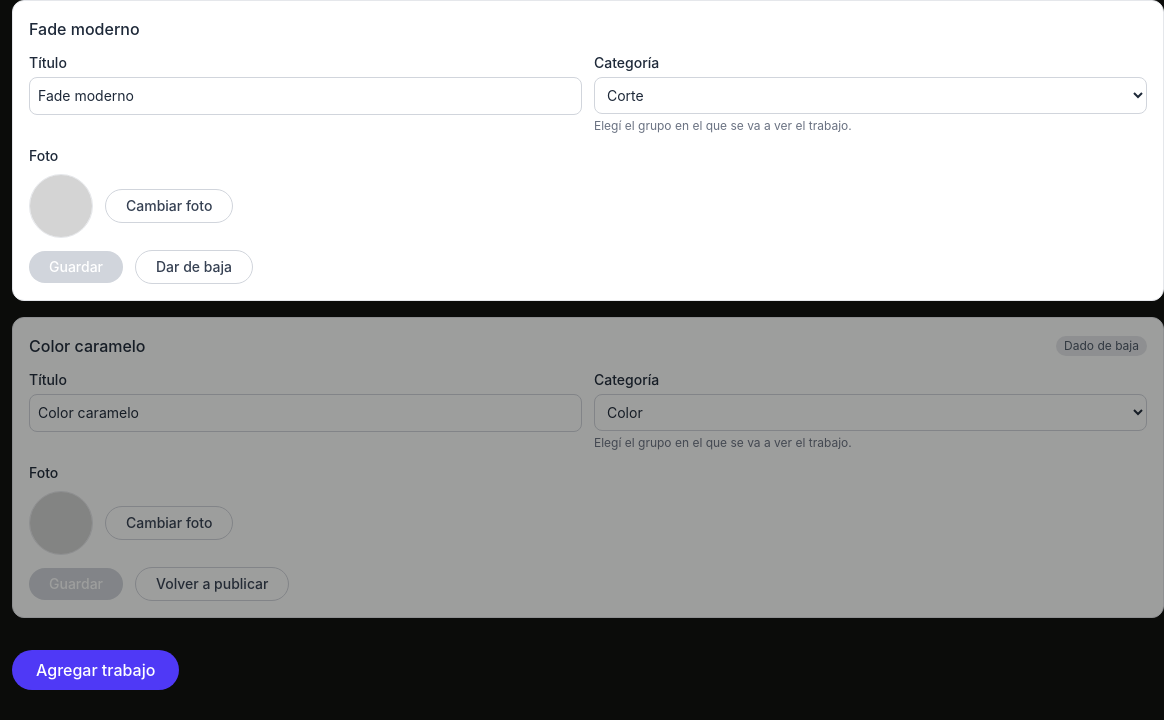
Test case: SeccionGaleriaComponent › guardar un trabajo › manda el título, la categoría y la foto, y confirma que ya se ve en el sitio
The image size is (1164, 720).
Replace the text in the field labelled "Título" below "Fade moderno" with "Fade con diseño" at (306, 96), box [29,77,582,115]
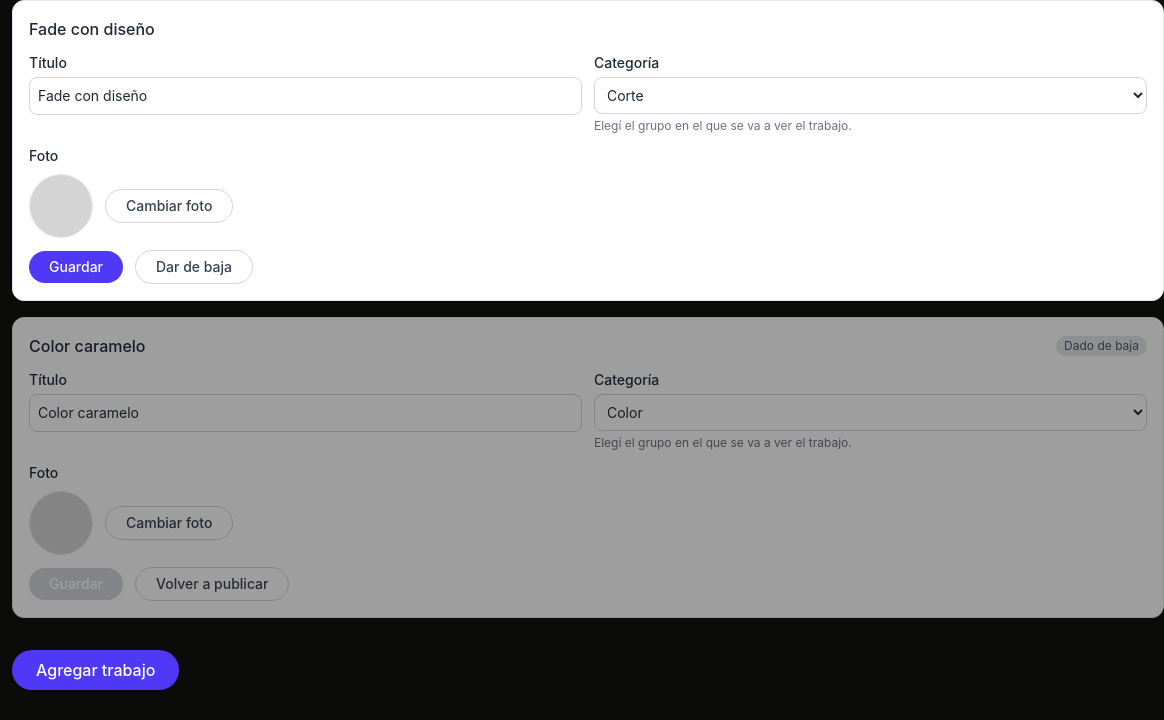
Click the button "Guardar" below "Fade con diseño".
click(76, 267)  # box [29,251,123,283]
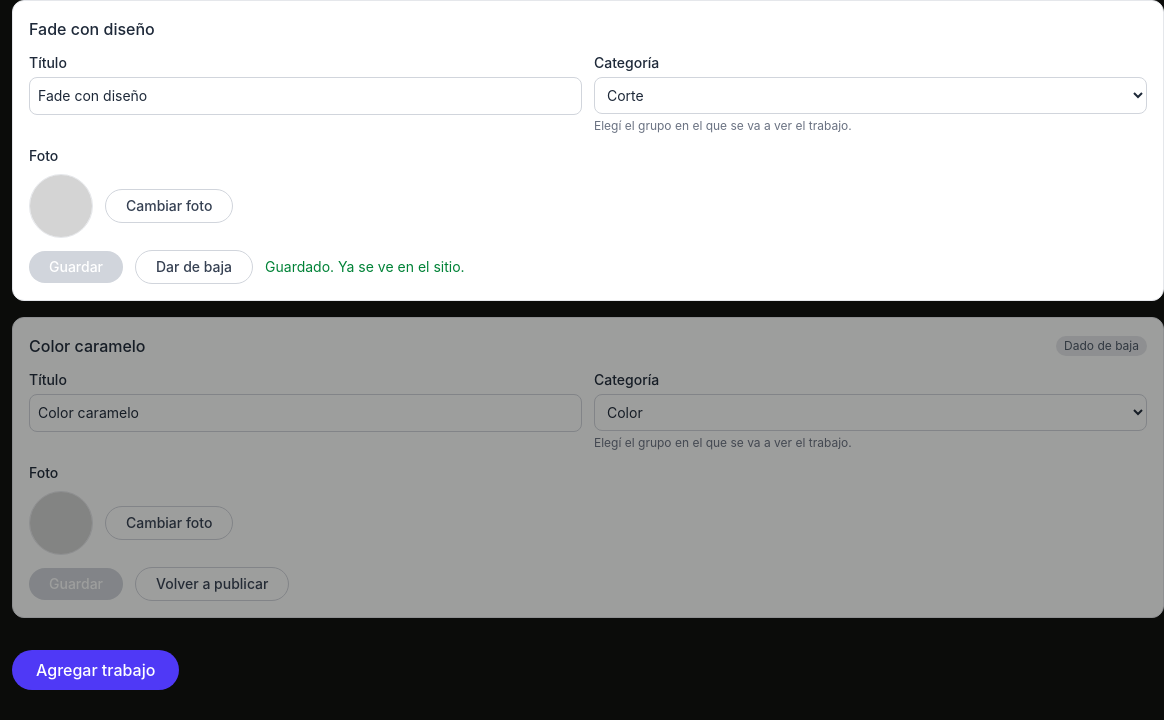
expect the list item does not show "Guardado": met
expect the list item that starts with "Fade con diseño" shows "Guardado. Ya se ve en el sitio.": met, box [265,258,464,275]
expect the text "Ya se ve en el sitio" is shown: met, box [265,258,464,275]
